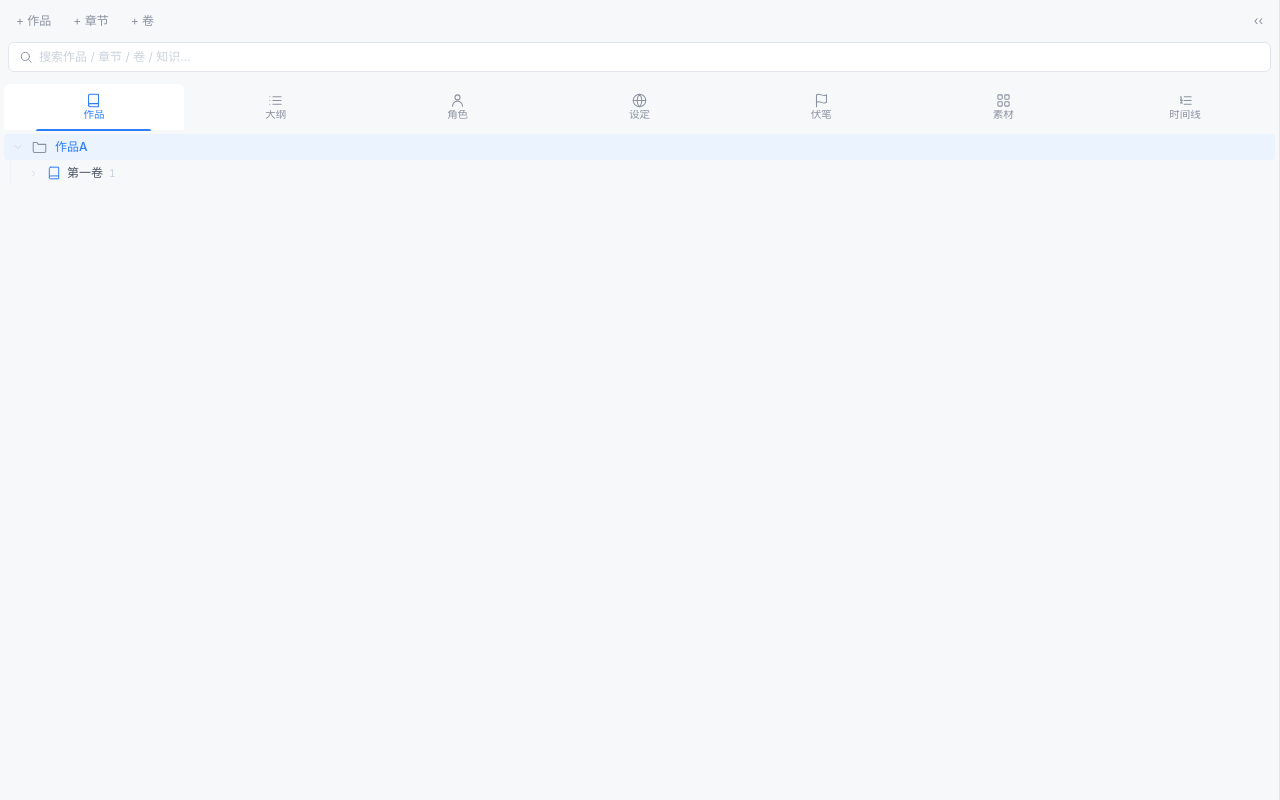
it: 侧栏操作重构：卷节点右键菜单 › 菜单「重命名卷」→ 弹出重命名弹窗
The width and height of the screenshot is (1280, 800).
Right-click the text "第一卷": (85, 173) [67, 164, 103, 182]
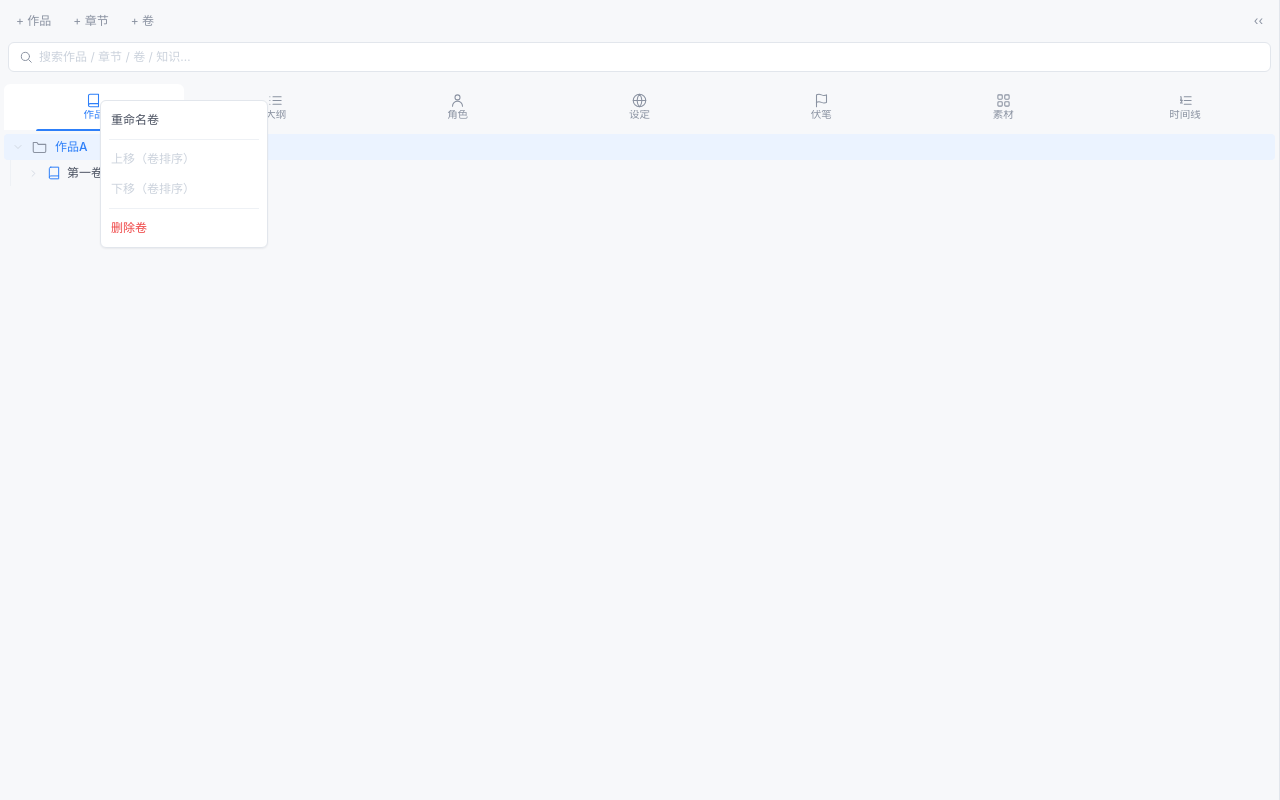
Click the menu item "重命名卷": (184, 120) [101, 105, 267, 135]
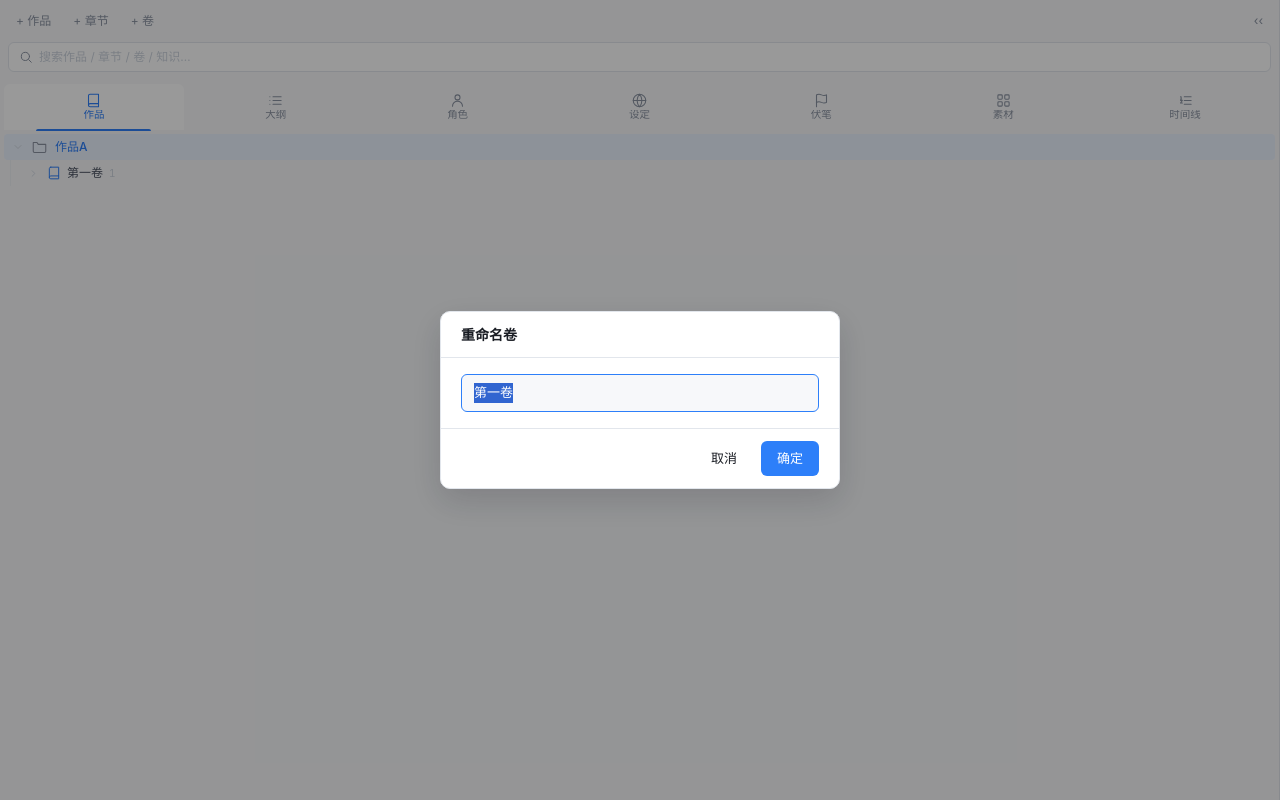
expect the text "重命名卷" is shown: met, box [441, 312, 839, 358]
expect the field showing "第一卷" is shown: met, box [461, 374, 819, 412]
